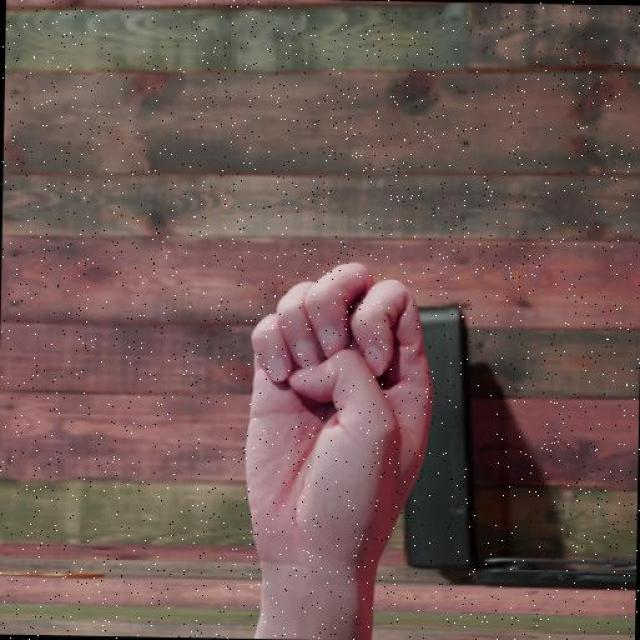E: (236, 256, 438, 559)
